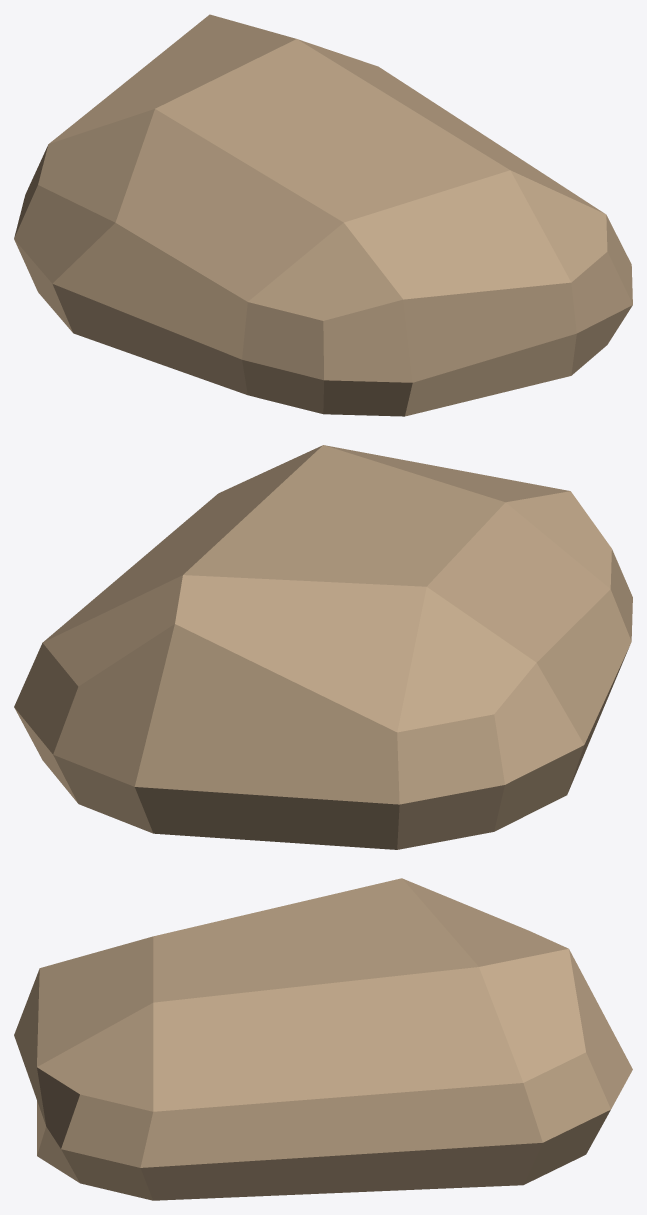
The model's file is rock_10.FBX.
3 renders of one model, top to bottom at view 1: azimuth 30°, elevation 25°; view 2: azimuth 150°, elevation 25°; view 3: azimuth 270°, elevation 25°, orthographic. The views are drawn at different scales.
Parts seen in each view (by area): view 1: rock_10; view 2: rock_10; view 3: rock_10.
Part boxes in pixels (x1,y1,x2,y2): rock_10: (14, 14, 632, 416); rock_10: (14, 445, 632, 849); rock_10: (14, 878, 632, 1200).
Bounding box in the file's own units: 1693 × 636 × 2056.
